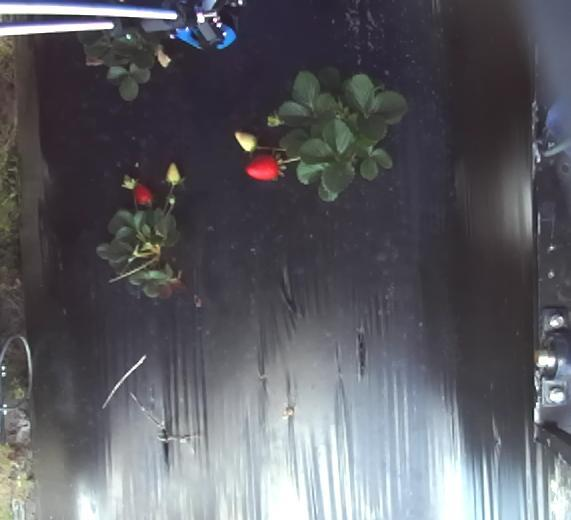mature: (244, 152, 281, 182), (132, 181, 153, 207)
